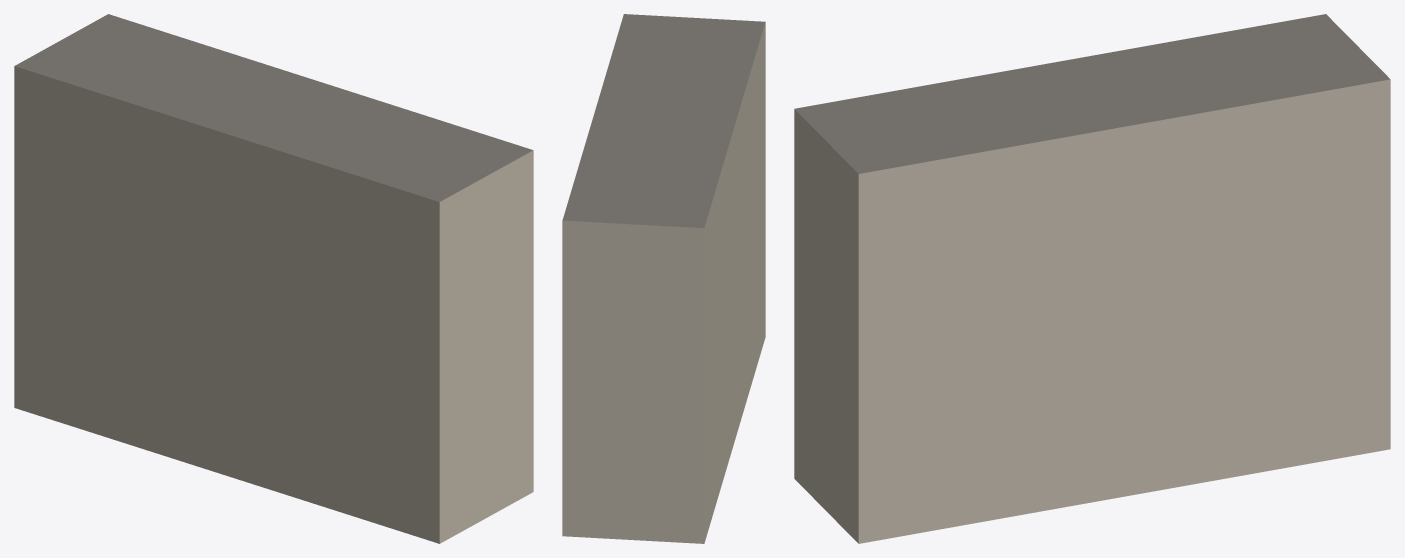
3 renders of one model, left to right at view 1: azimuth 30°, elevation 25°; view 2: azimuth 150°, elevation 25°; view 3: azimuth 270°, elevation 25°, orthographic. The views are drawn at different scales.
Parts seen in each view (by area): view 1: HP-w1287936330; view 2: HP-w1287936330; view 3: HP-w1287936330.
Boxes of the visible parts, x1,y1,x2,y2 form: HP-w1287936330: [14, 14, 533, 543]; HP-w1287936330: [562, 14, 765, 543]; HP-w1287936330: [794, 14, 1390, 543].
Bounding box in the file's own units: 16.7 × 18 × 26.3.
